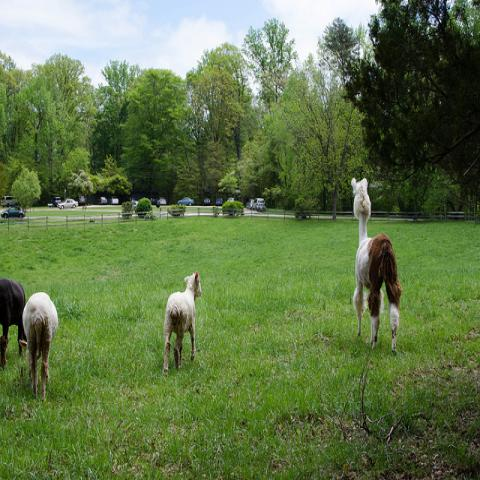car: (4, 178, 254, 214), (1, 206, 26, 219), (57, 199, 79, 210), (251, 198, 266, 212), (178, 197, 194, 206), (156, 196, 166, 208), (107, 196, 120, 204), (51, 196, 61, 206), (131, 201, 139, 212), (98, 196, 107, 205), (202, 198, 210, 205), (216, 197, 223, 205), (227, 197, 235, 202)
